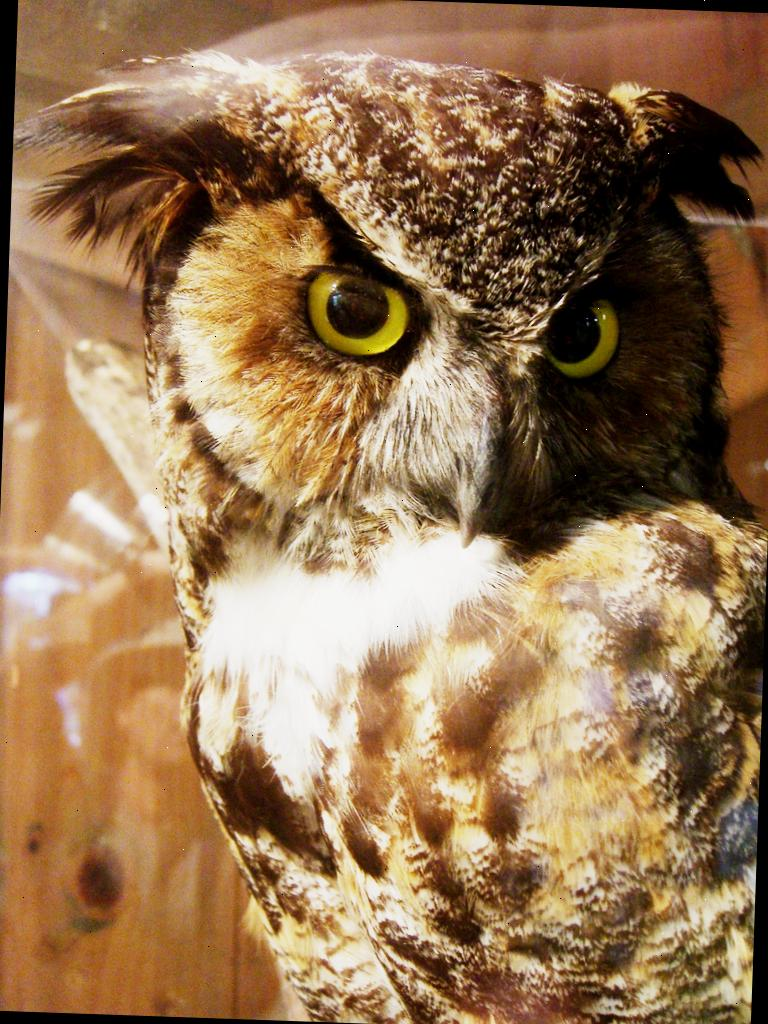Owl: (0, 33, 768, 1024)
